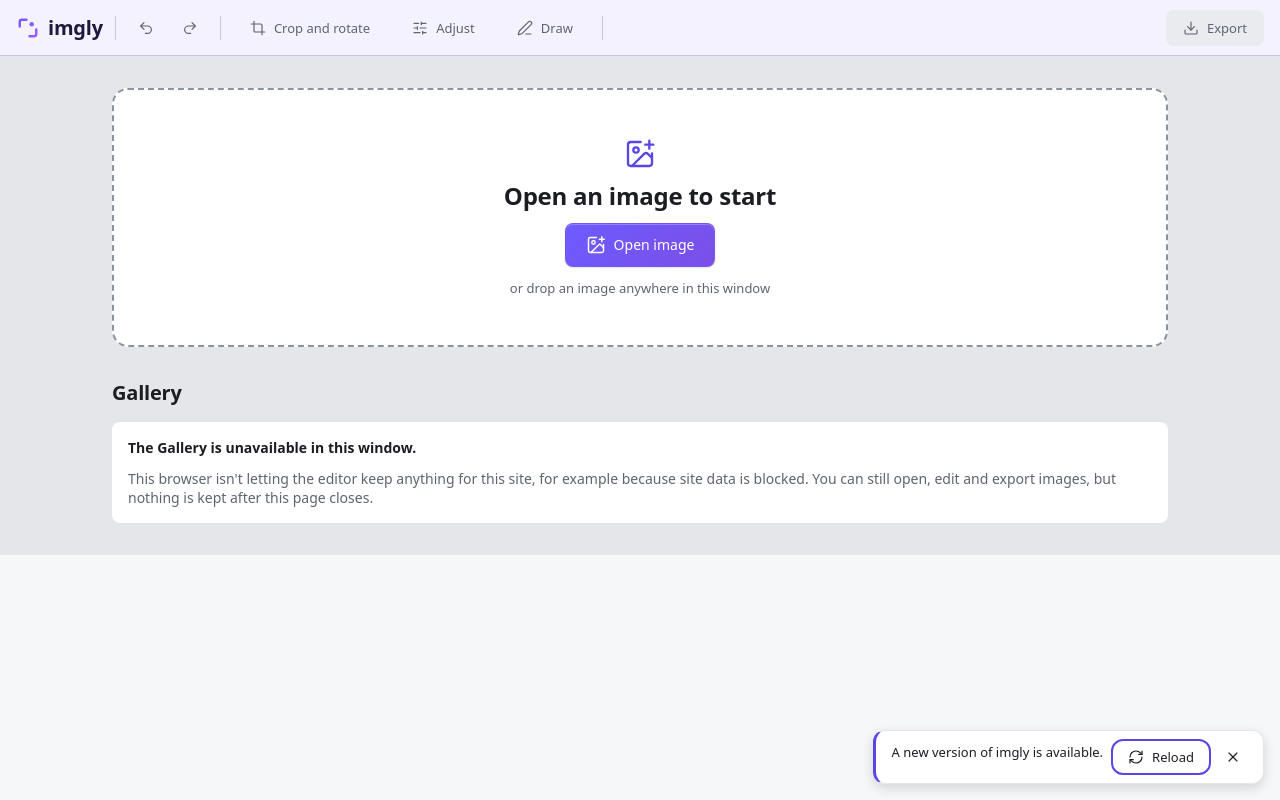
Scenario: App install and update wiring (pwa-install-update T12) › returns focus to the Reload action when Cancel closes the confirmation (focused before the click: reload) (SCR-06, AC-12)
This screenshot has width=1280, height=800.
Step 1. Click the button "Reload" → (1161, 757), box [1115,743,1207,771]
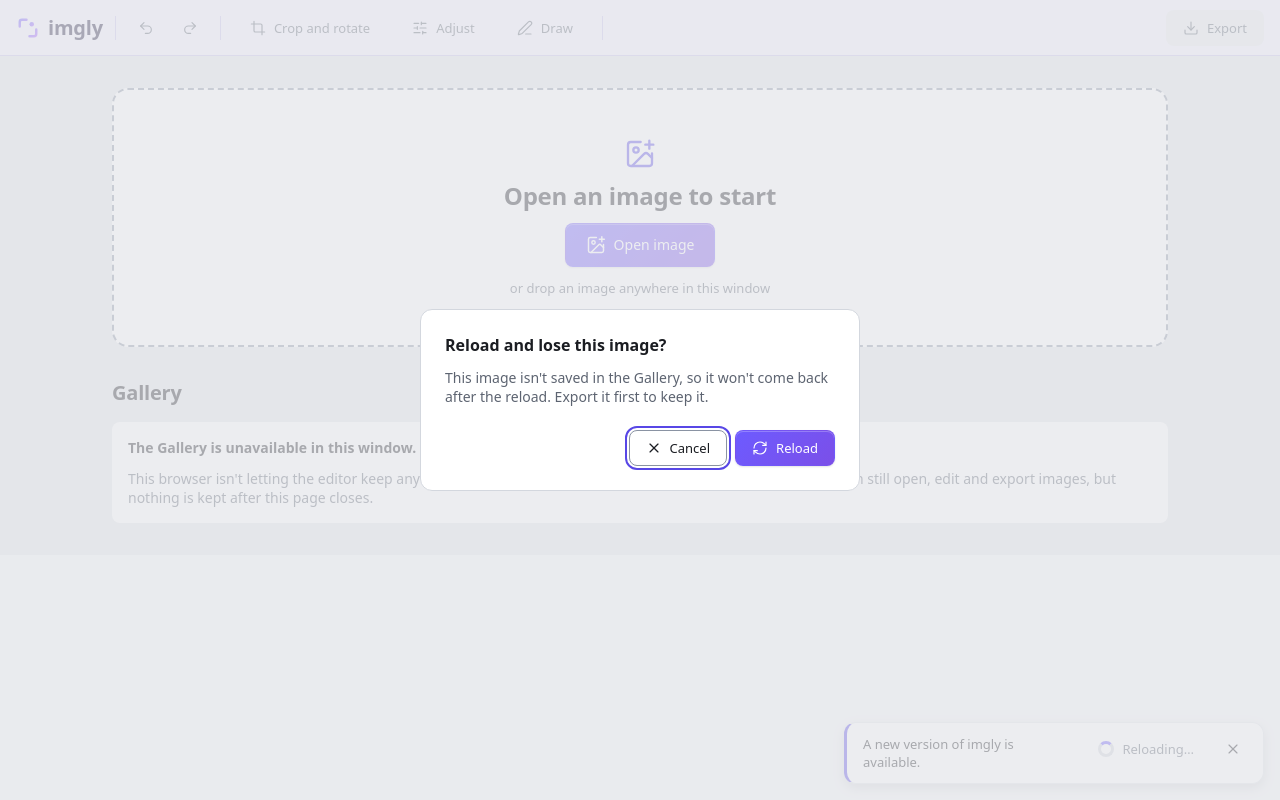
Check: the dialog is shown, box [420,309,860,491]
Step 2. Click the button "Cancel" → (678, 448), box [629,430,727,466]
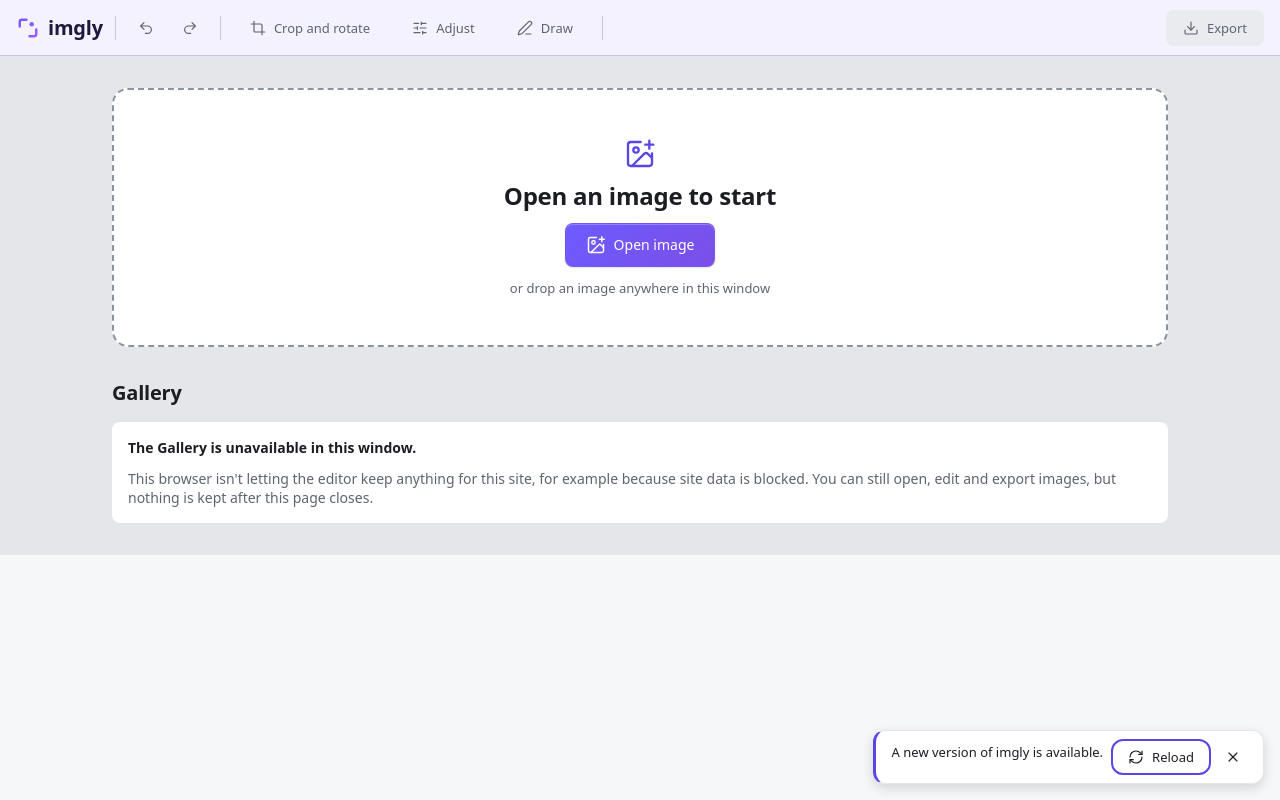
Check: the dialog is gone
